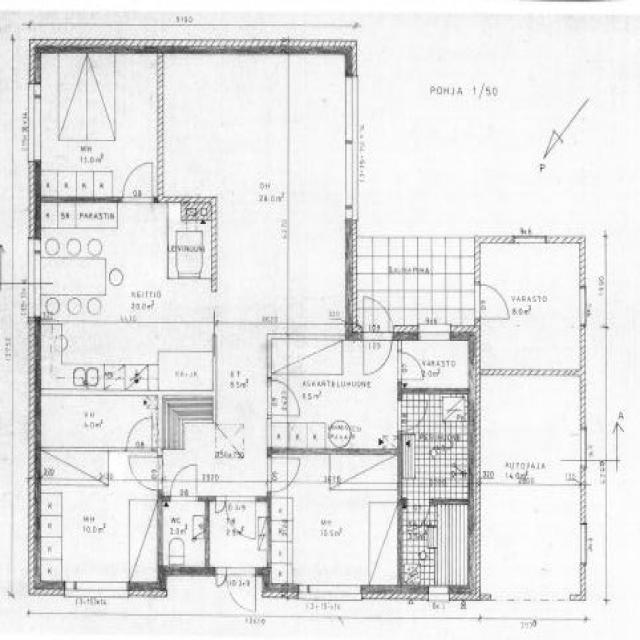door: (362, 315, 394, 377), (119, 157, 156, 204), (225, 567, 257, 613), (123, 412, 155, 454), (478, 282, 512, 321), (168, 461, 200, 501), (129, 452, 157, 492), (396, 348, 426, 383)
window: (339, 75, 361, 227), (340, 136, 359, 218), (340, 74, 360, 148), (27, 84, 44, 165), (68, 577, 130, 598), (302, 580, 364, 600), (28, 243, 42, 323), (424, 582, 453, 608), (416, 324, 452, 344), (576, 520, 590, 566), (576, 282, 588, 330), (355, 444, 391, 458)
zone: (35, 212, 211, 392), (34, 49, 161, 200), (270, 462, 396, 594), (477, 240, 584, 372), (37, 479, 158, 588), (280, 351, 400, 451), (477, 374, 585, 482), (399, 390, 472, 497), (399, 496, 474, 592), (38, 392, 147, 452), (36, 198, 116, 257), (207, 497, 269, 570), (402, 333, 472, 390), (167, 200, 215, 282), (160, 498, 208, 570)
